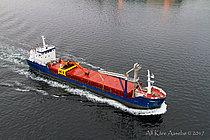Ship: (28, 32, 172, 120)
